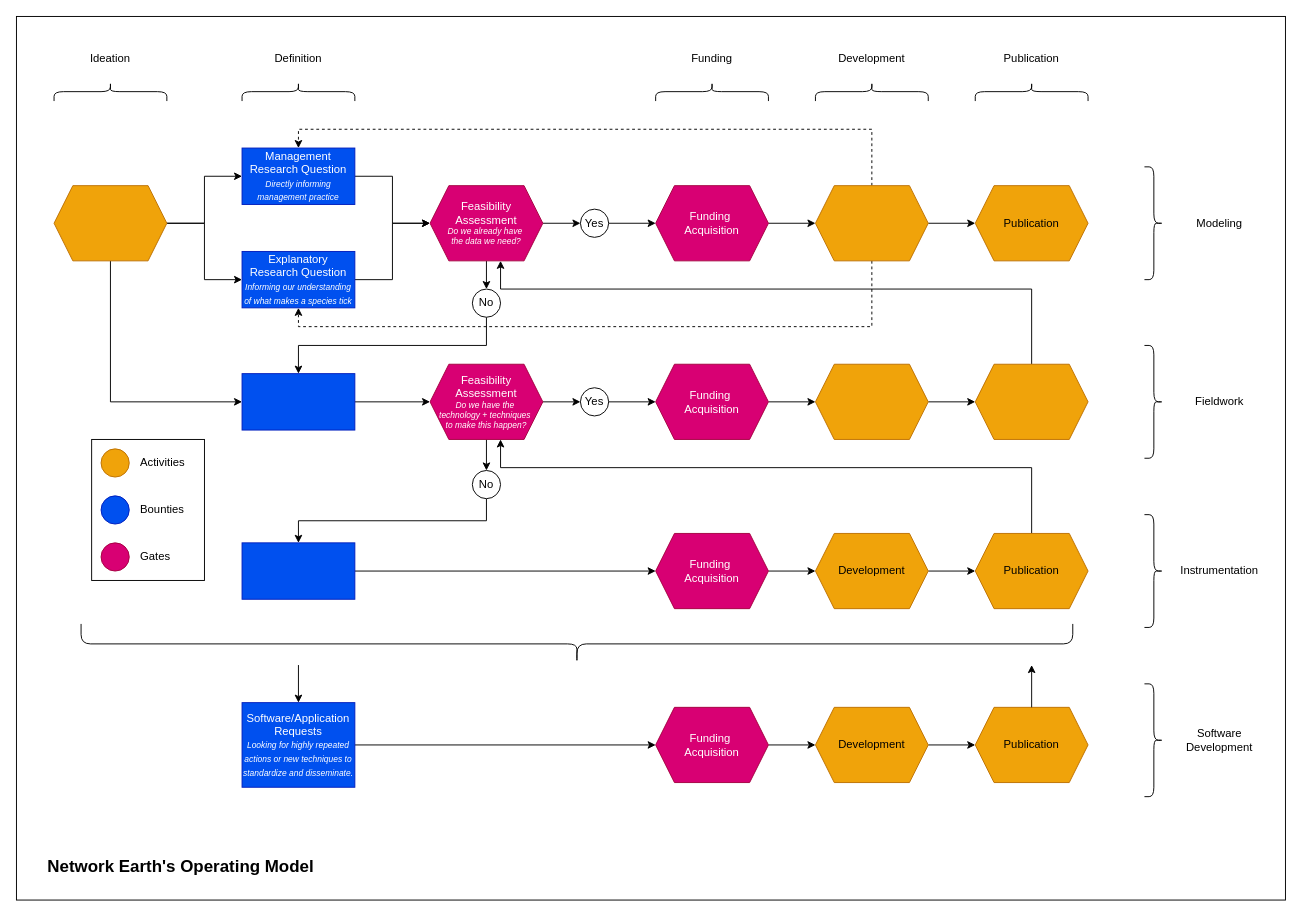
Image size: 1302x917. Some labels were removed from this diagram. Here are the shapes that lost their labels. From the top down, the box of each, then its label:
(53, 185, 167, 261): Exploration Looking for worthwhile questions to answer
(815, 185, 928, 261): Active Research
(241, 373, 355, 430): Coverage Request Fill in a gap in our fish behavior data
(815, 363, 928, 439): Data Collection
(974, 363, 1088, 439): Indexing + Documentation
(241, 542, 355, 599): Methods/Tech Update Fill in a gap in our ability to collect behavior data
